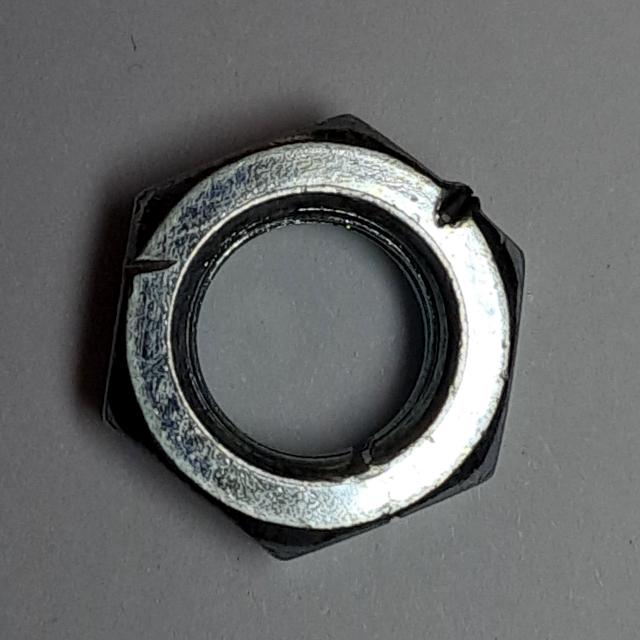Scratches: (91, 104, 541, 572)
